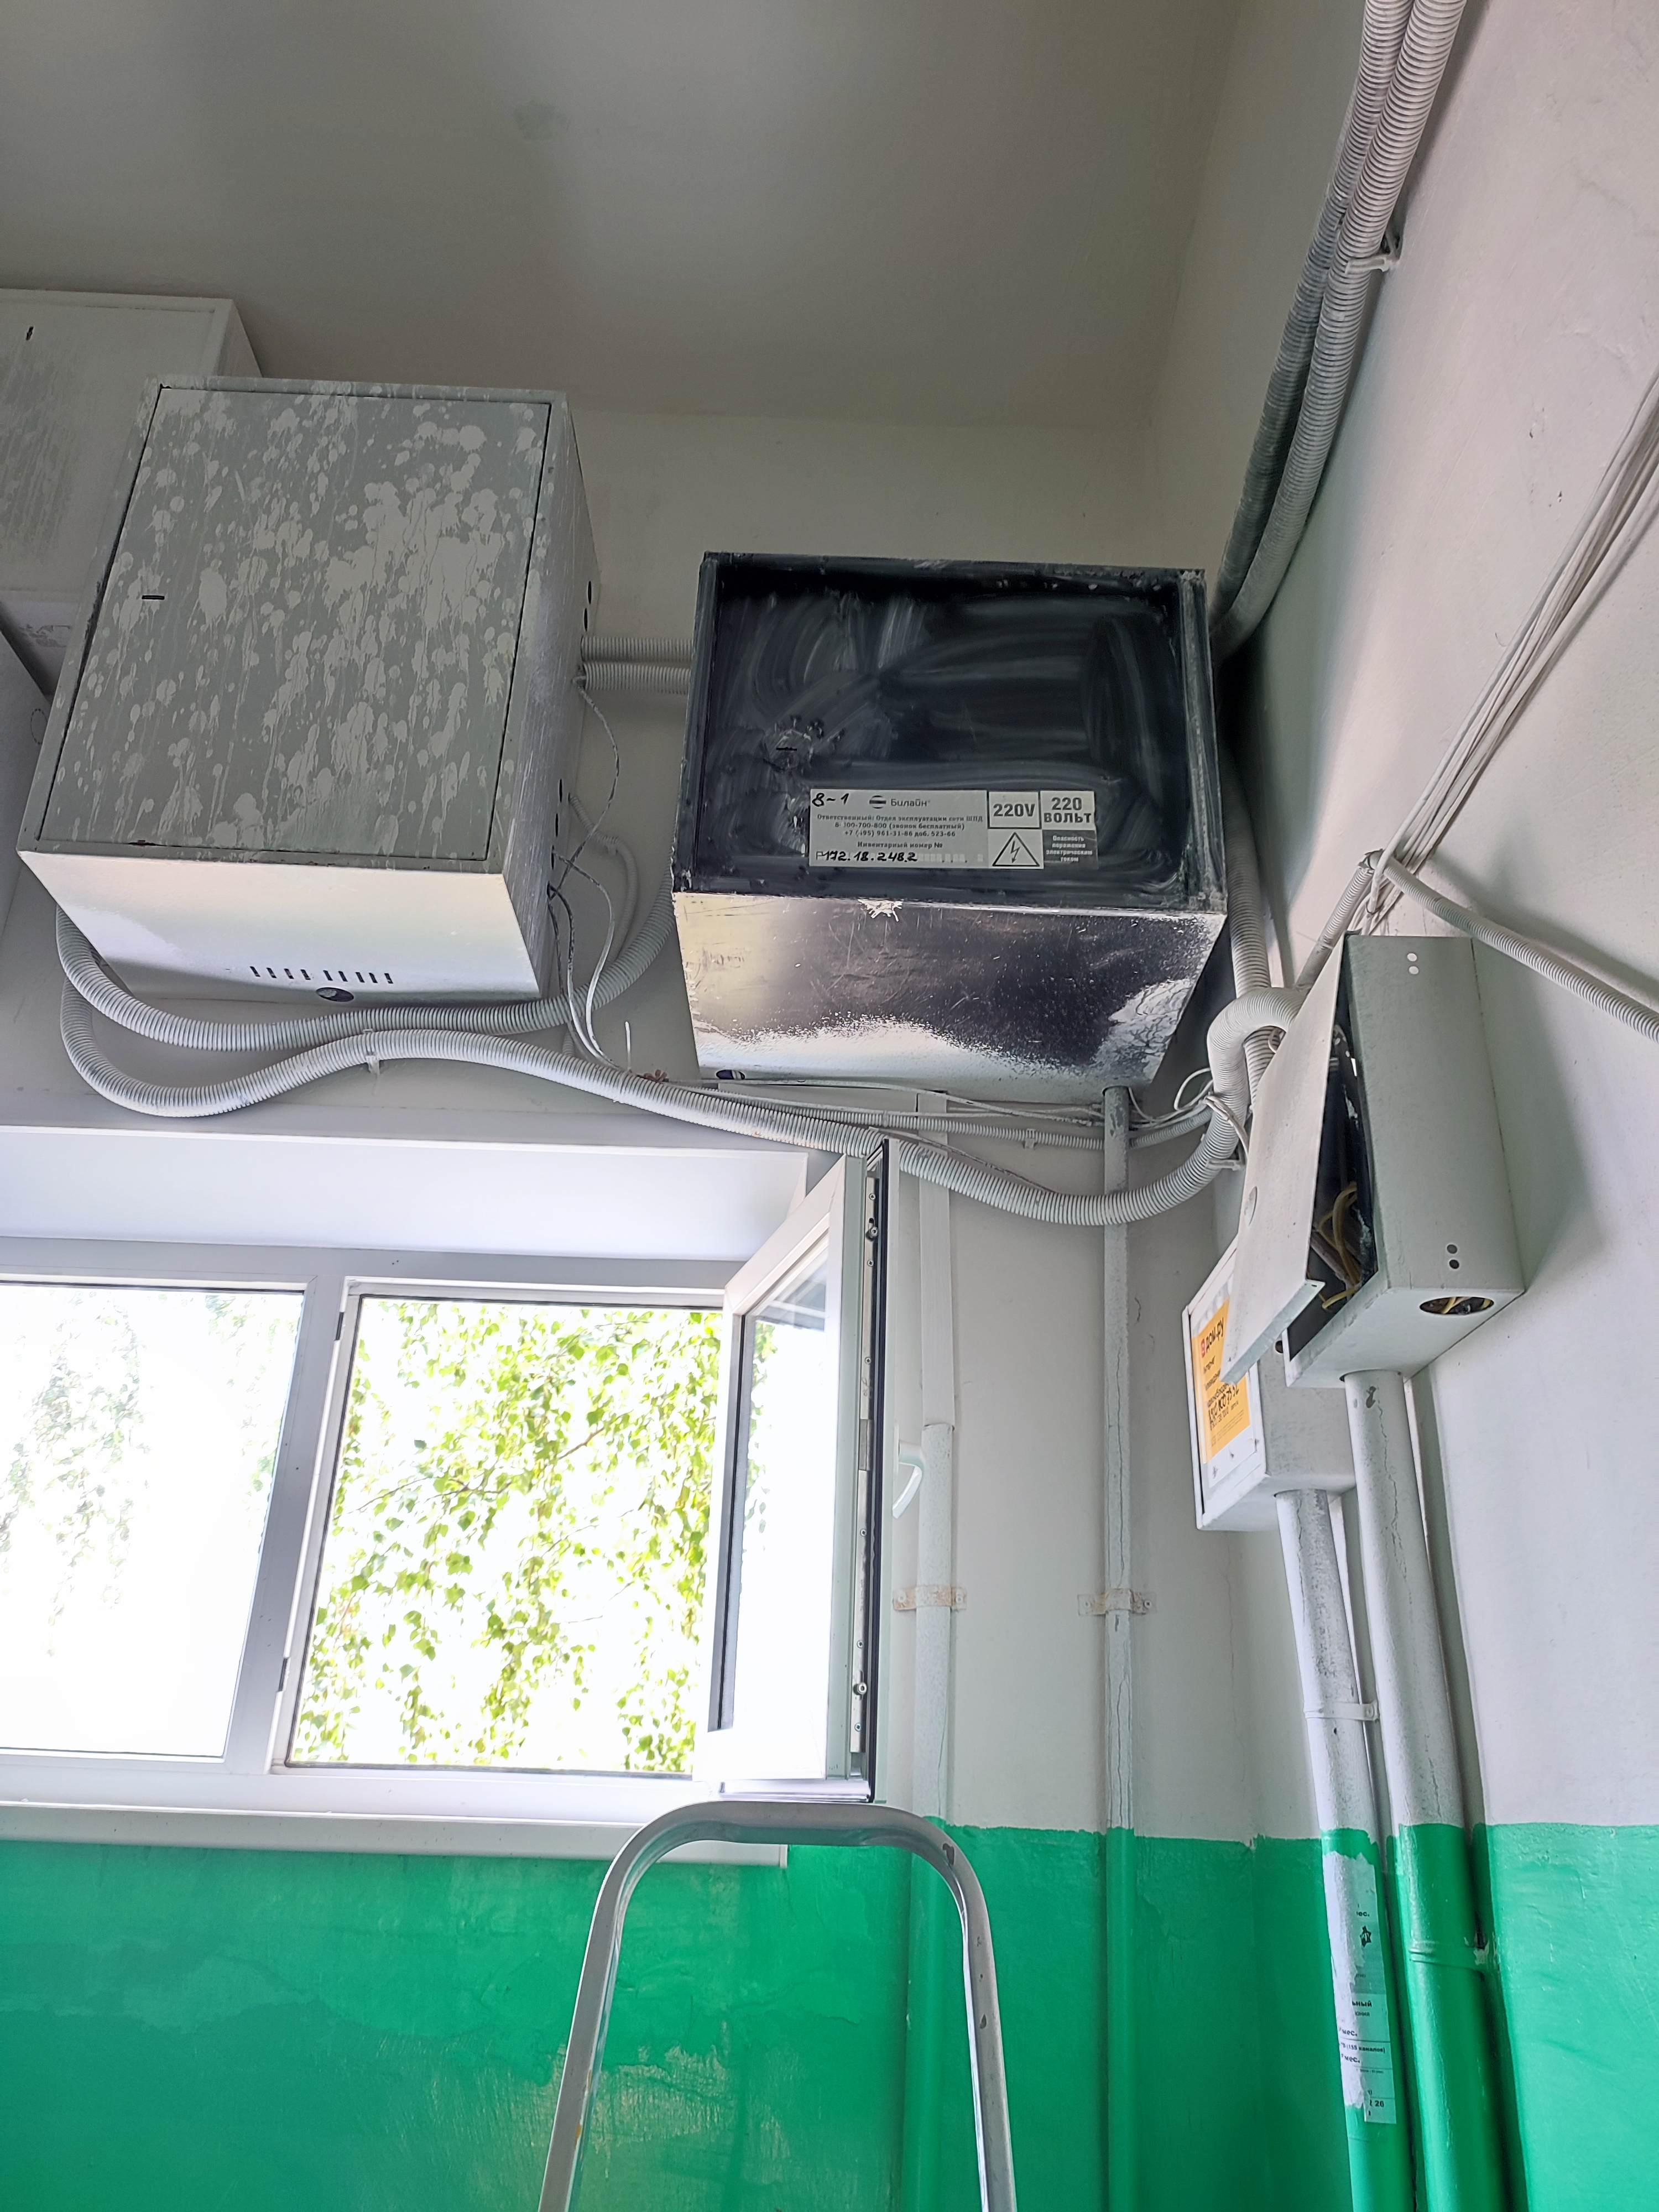shta-9m: (659, 540, 1234, 1113)
